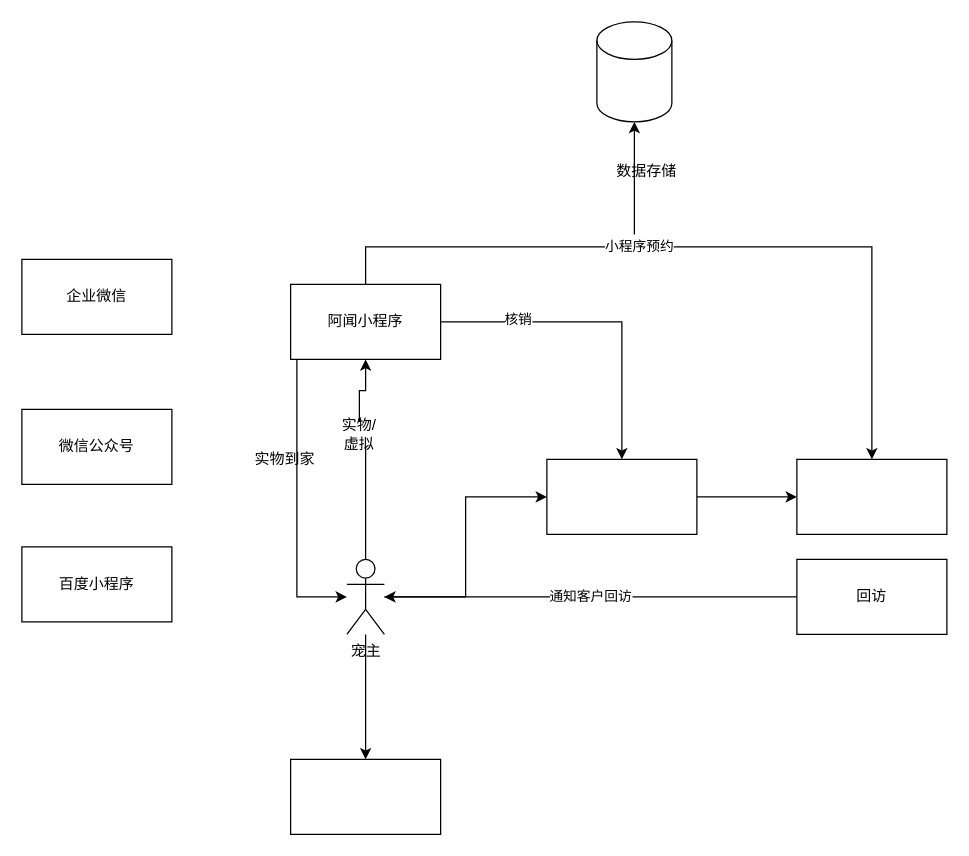
The diagram is 969 pixels wide and 856 high, and some of its shapes have lost their labels. The centre of each missing label's shape, as x and y in pixels:
本地生活: point 365,796
线下门店: point 621,496
预约: point 871,496
